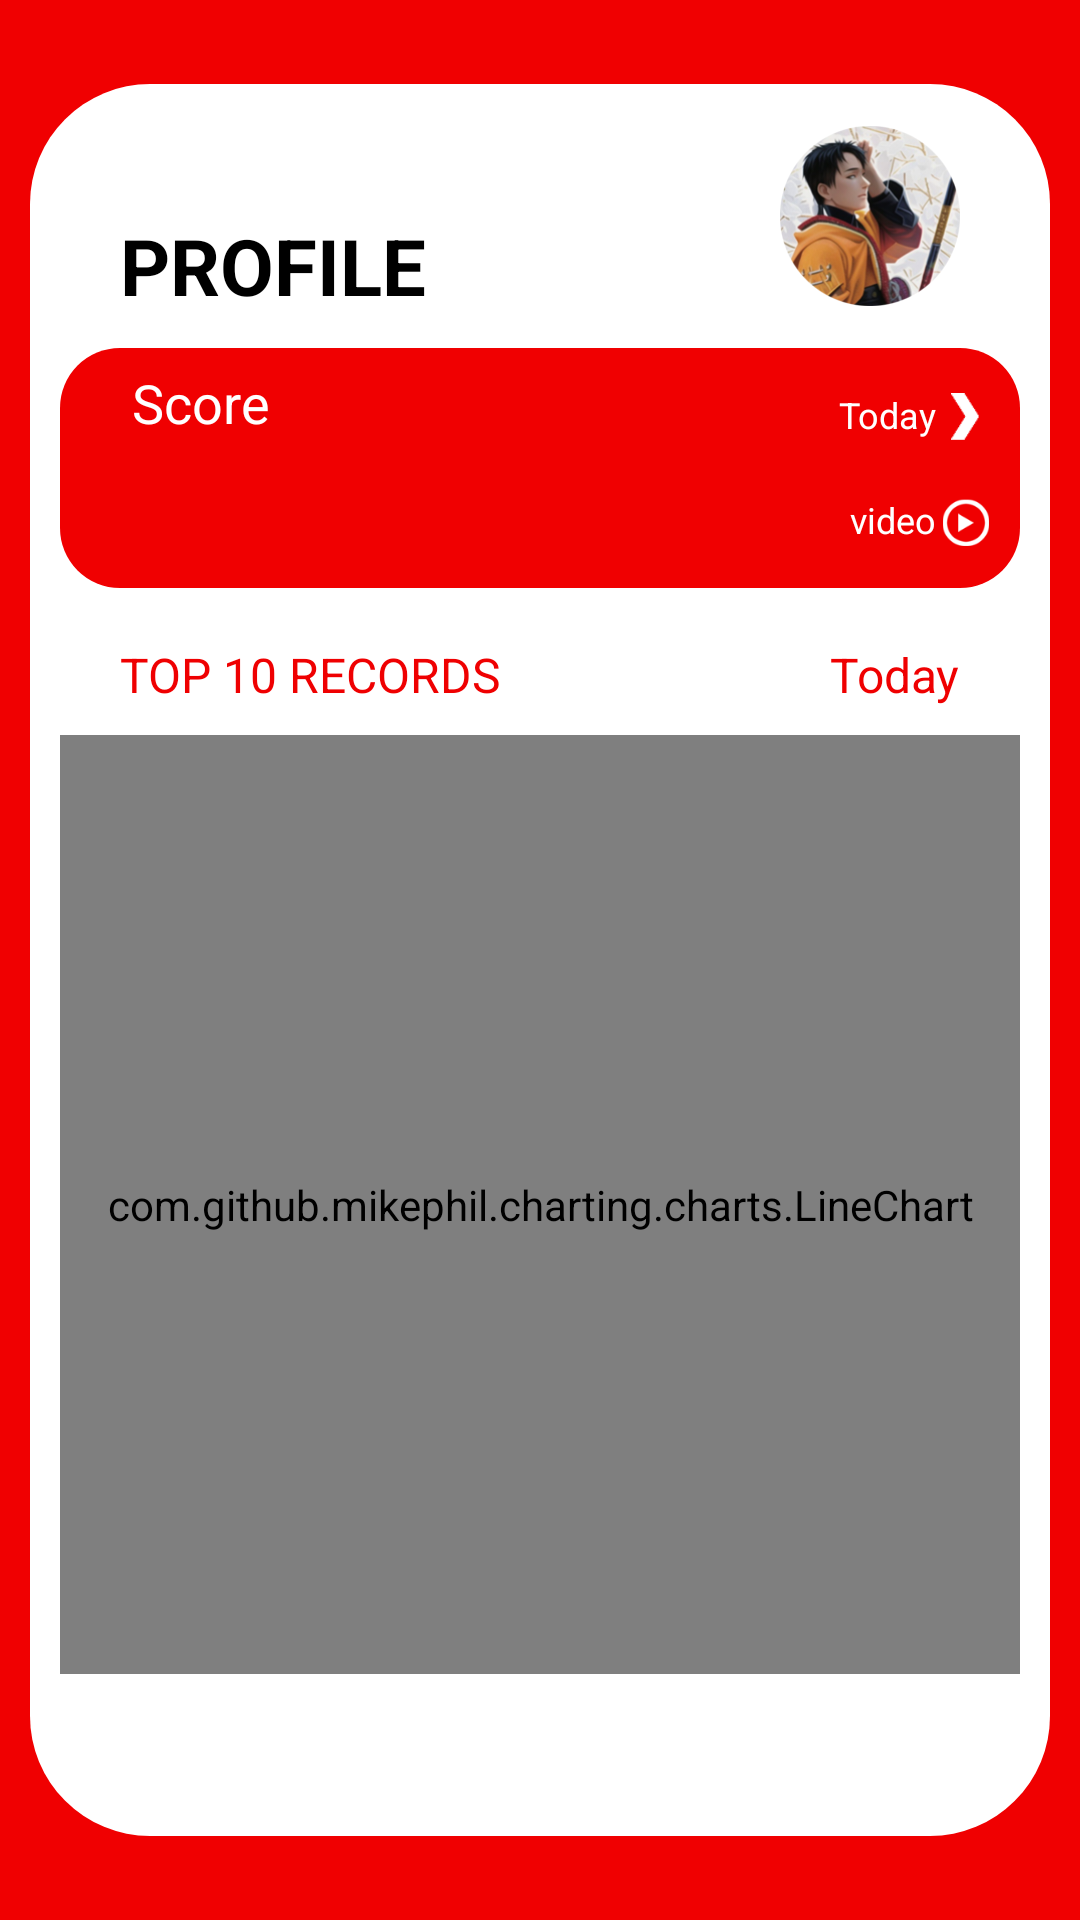

Point at icon controls on the screen. Image size 1080 × 1920, points as point (x, y).
user: point (870, 216)
